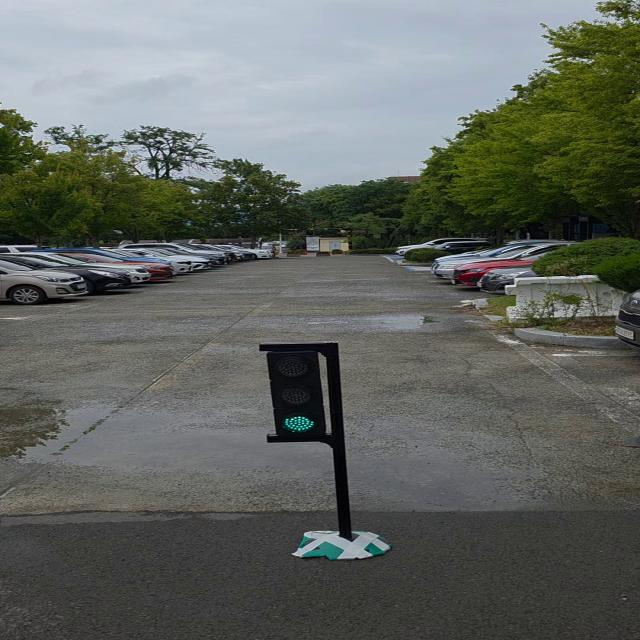green: (266, 344, 338, 439)
